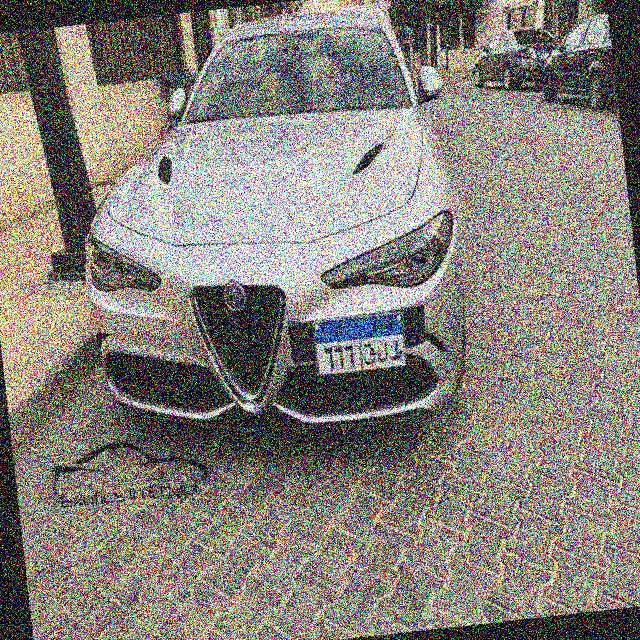License Plate: (310, 309, 410, 380)
